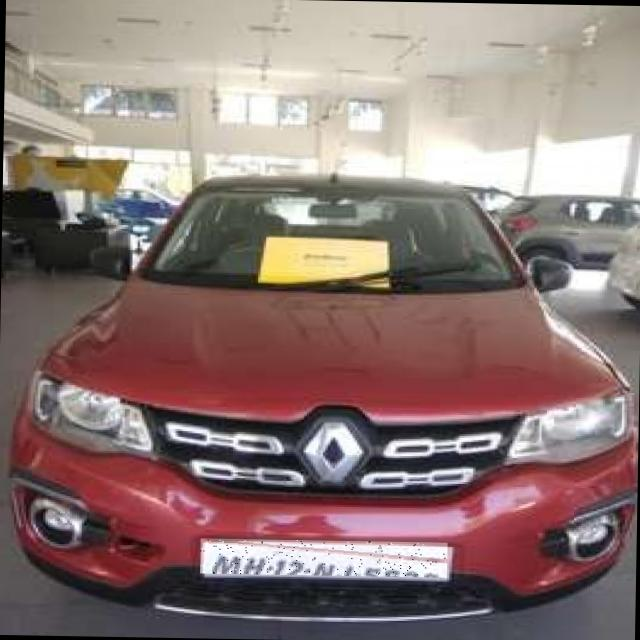Plate: (201, 539, 449, 578)
